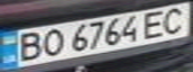4: (118, 12, 145, 43)
6: (66, 21, 90, 53), (103, 16, 127, 46)
7: (84, 19, 109, 49)
B: (9, 29, 48, 63)
C: (157, 3, 193, 35)
E: (136, 8, 172, 39)
O: (36, 26, 69, 57)
